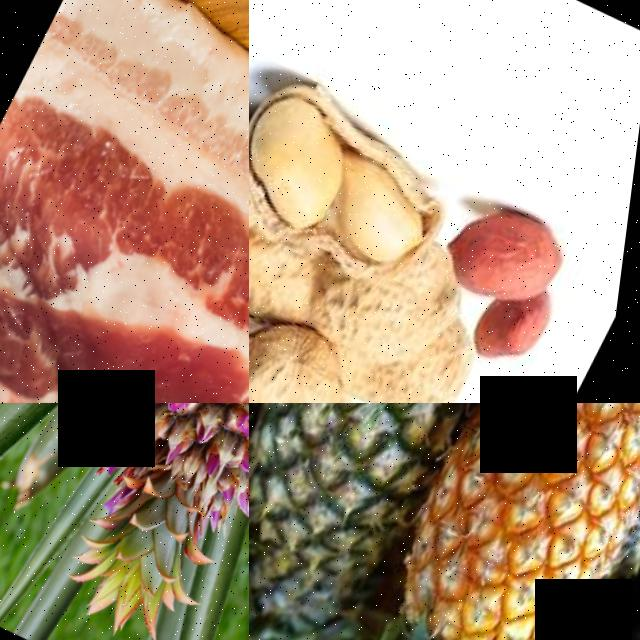peanuts: (249, 213, 464, 380), (440, 177, 589, 315), (249, 79, 377, 234), (319, 148, 452, 270), (249, 314, 387, 403), (479, 274, 565, 365)
pineapple: (342, 403, 640, 640), (249, 403, 531, 640), (63, 403, 249, 603)
pork belly: (0, 0, 249, 403)
